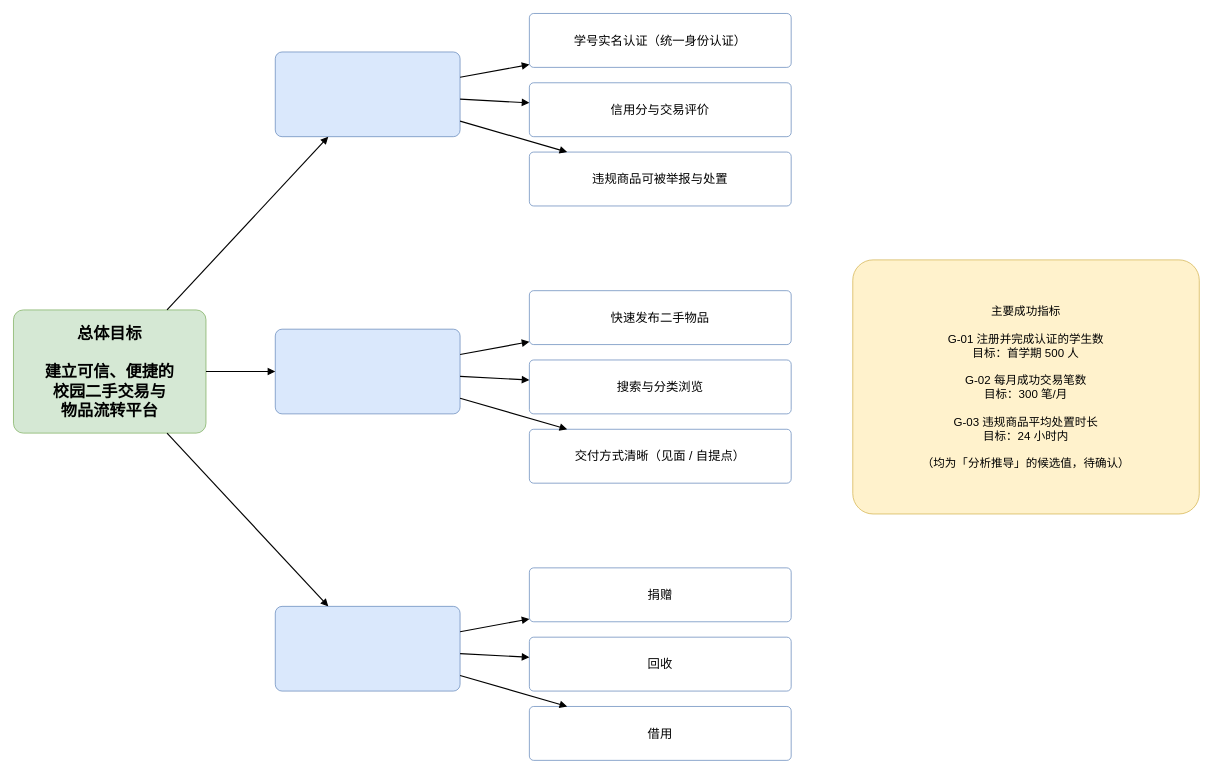
This 1213x774 diagram has some shape labels left out. The centre of each missing label's shape, as x and y in pixels:
"子目标 1 让交易可信" goes at (367,94).
"子目标 2 让交易便捷" goes at (367,371).
"子目标 3 让闲置物品流转起来" goes at (367,648).
